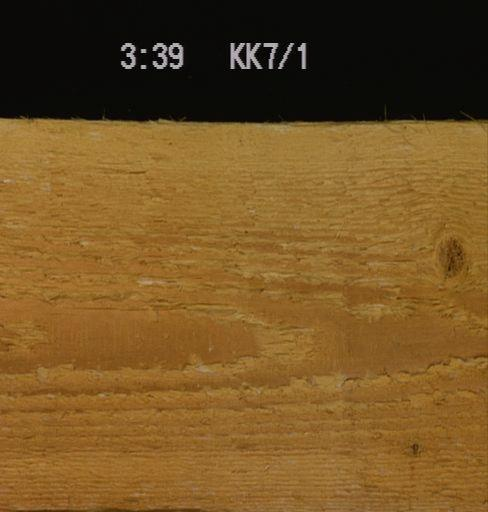small_knot: (407, 439, 424, 459)
sound_knot: (432, 235, 469, 282)
